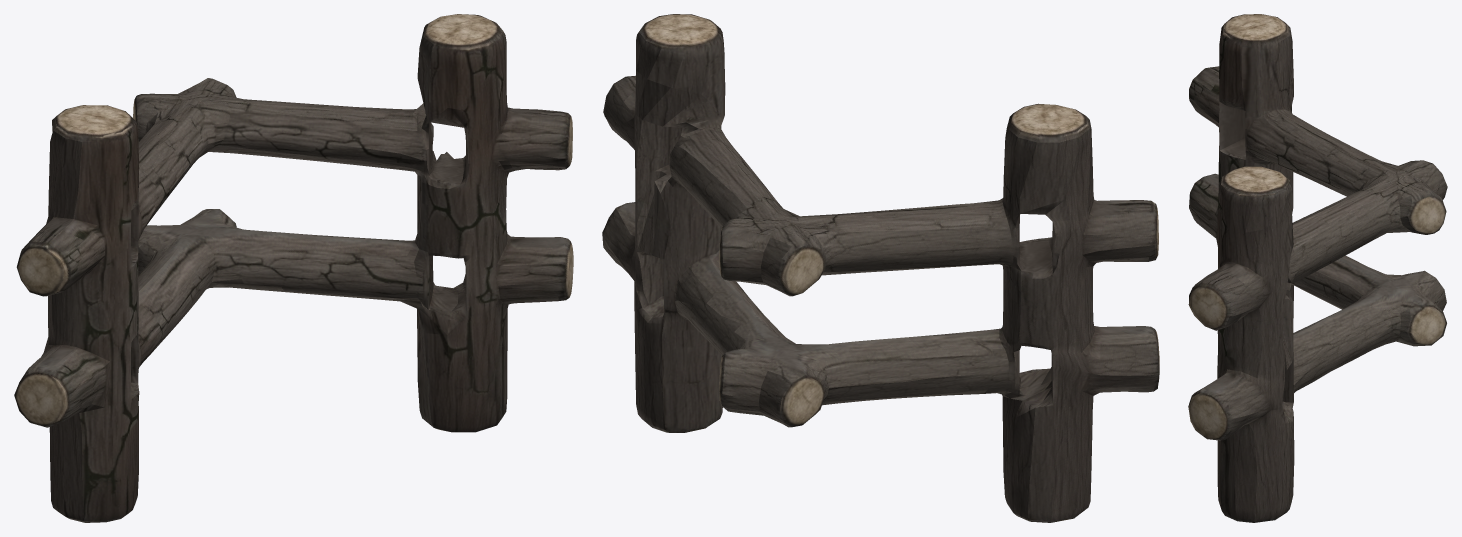
The model's file is ok-fence-corner-v2-meshy.glb.
3 views of the same model, side by side, from view 1: azimuth 30°, elevation 25°; view 2: azimuth 150°, elevation 25°; view 3: azimuth 270°, elevation 25° (orthographic). The views are drawn at different scales.
Size of the model in its own units: 1.89 by 1.27 by 0.8949.
Materials: 1 (1 with a texture image).
